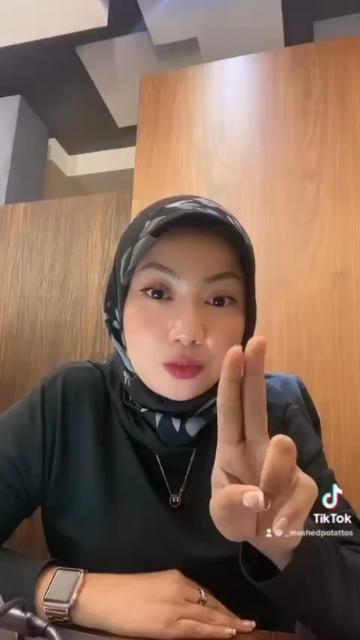U: (206, 338, 318, 554)
